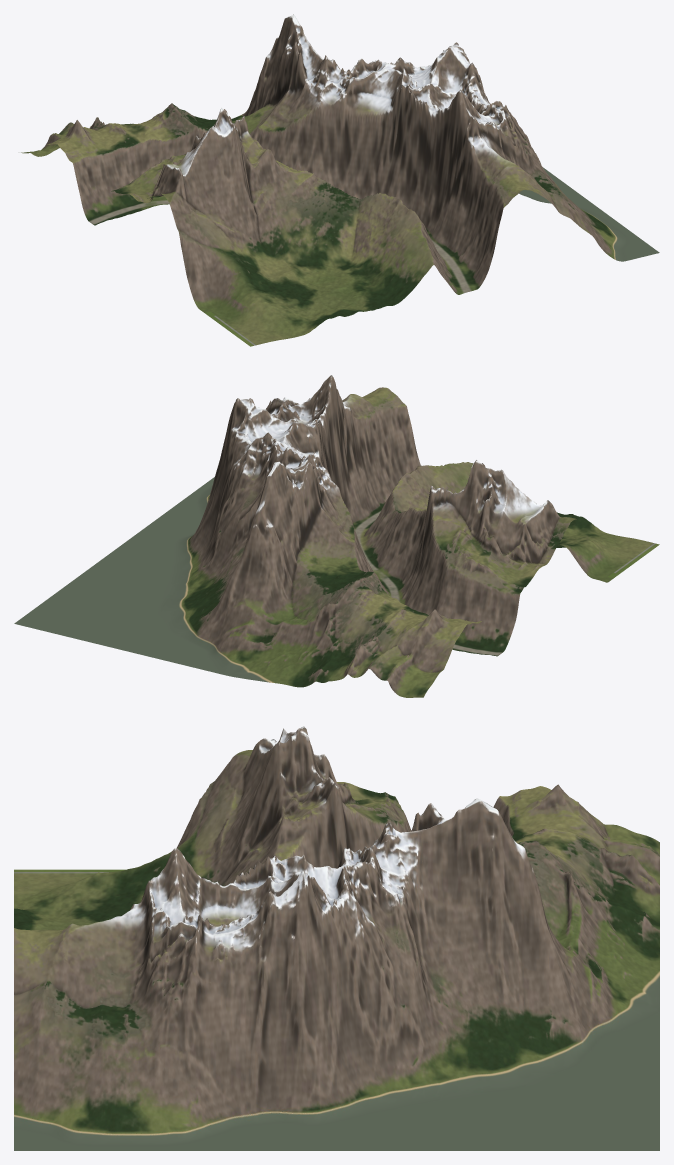
The picture shows the model from 3 angles, top to bottom: view 1: azimuth 30°, elevation 25°; view 2: azimuth 150°, elevation 25°; view 3: azimuth 270°, elevation 25°; orthographic projection. The views are drawn at different scales.
Parts seen in each view (by area): view 1: Terrain 10; view 2: Terrain 10; view 3: Terrain 10.
Boxes of the visible parts, left/top/right/bottom form: Terrain 10: left=21, top=14, right=659, bottom=346; Terrain 10: left=14, top=375, right=659, bottom=697; Terrain 10: left=14, top=726, right=659, bottom=1150.
Bounding box in the file's own units: 5000 × 1883 × 5000.
Materials: 1 (1 with a texture image).
